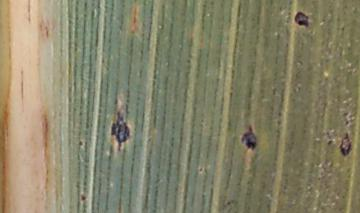tarspot: (110, 112, 131, 153), (240, 126, 257, 150), (340, 131, 353, 156), (294, 10, 310, 29), (325, 138, 334, 146), (79, 192, 86, 202), (225, 199, 233, 207), (197, 165, 204, 172), (344, 118, 349, 126), (78, 140, 84, 146)
